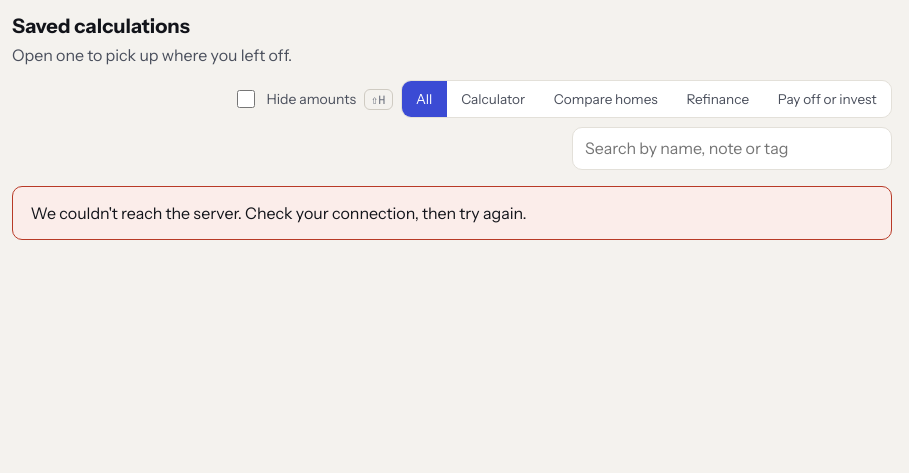
HistoryPageComponent › the list › shows what went wrong when the list cannot be loaded, and still searches afterwards
expect the message "We couldn't reach the server. Check your connection, then try again." is shown: met, box left=12, top=186, right=892, bottom=240
Type "oak" into the search field with test id "history-search" at (732, 149), box left=572, top=127, right=892, bottom=170
Wait 300 ms
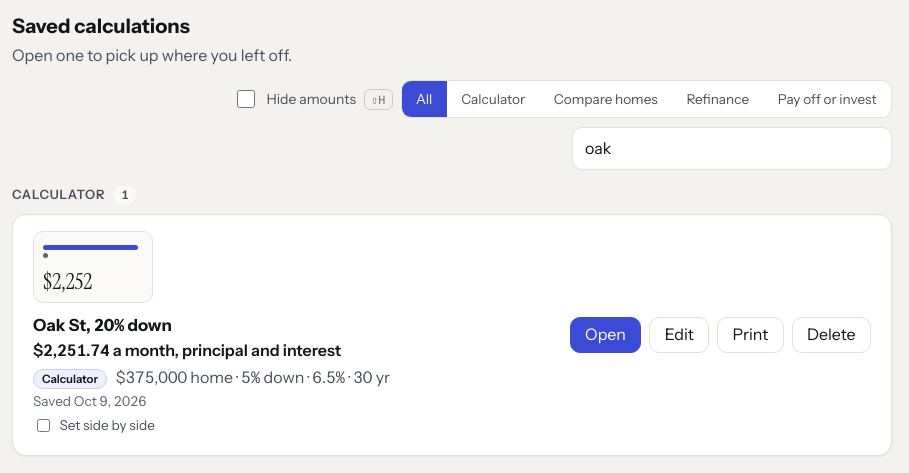
expect the message "We couldn't reach the server. Check your connection, then try again." is gone: met
